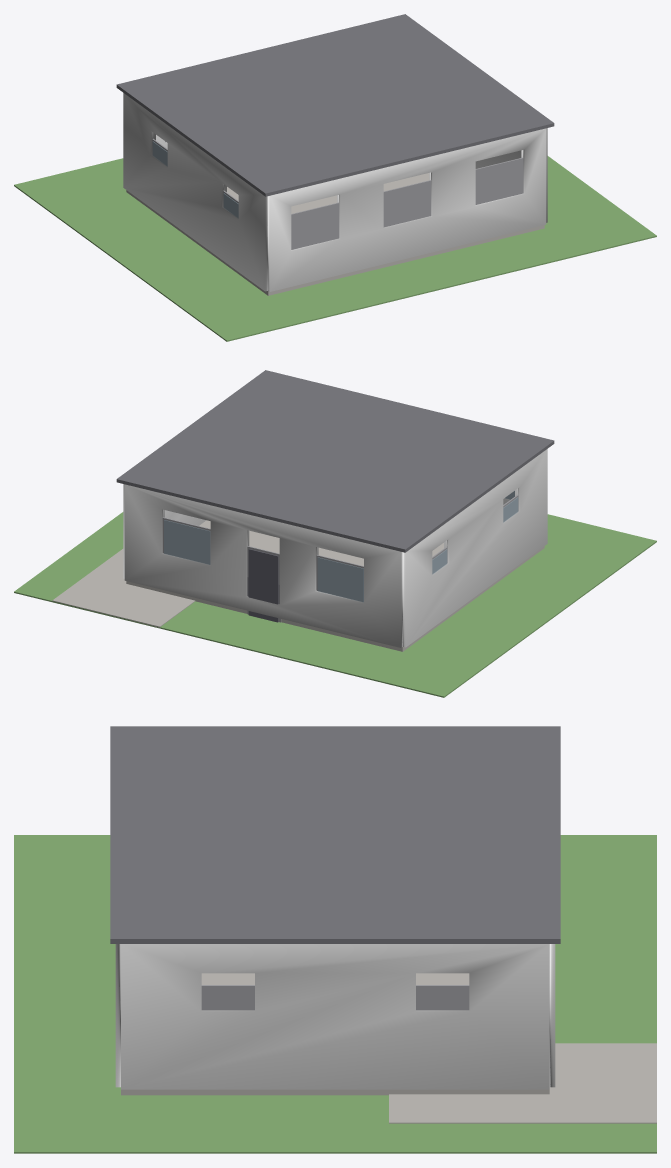
File: house_modern.glb
3 views of the same model, one above another, from view 1: azimuth 30°, elevation 25°; view 2: azimuth 150°, elevation 25°; view 3: azimuth 270°, elevation 25° (orthographic). The views are drawn at different scales.
Visible parts, largest first — view 1: roof, lawn, back_wall, left_wall, frame (×3), foundation, floor, right_wall; view 2: roof, lawn, front_wall, left_wall, driveway, frame (×2), glass (×2), panel, foundation, floor, right_wall; view 3: roof, lawn, right_wall, driveway, foundation, frame (×2), floor, front_wall, back_wall.
Boxes of the visible parts, x1=… form: roof: x1=116, y1=14, x2=554, y2=196; lawn: x1=14, y1=156, x2=656, y2=341; back_wall: x1=268, y1=128, x2=546, y2=291; left_wall: x1=123, y1=93, x2=268, y2=291; frame (×3): x1=291, y1=157, x2=523, y2=249; foundation: x1=126, y1=190, x2=544, y2=295; floor: x1=227, y1=173, x2=429, y2=213; right_wall: x1=475, y1=128, x2=547, y2=222; roof: x1=116, y1=370, x2=554, y2=552; lawn: x1=14, y1=512, x2=656, y2=697; front_wall: x1=124, y1=484, x2=402, y2=647; left_wall: x1=402, y1=449, x2=547, y2=647; driveway: x1=52, y1=549, x2=195, y2=627; frame (×2): x1=162, y1=517, x2=363, y2=601; glass (×2): x1=164, y1=520, x2=363, y2=602; panel: x1=248, y1=549, x2=278, y2=622; foundation: x1=126, y1=546, x2=544, y2=651; floor: x1=199, y1=520, x2=443, y2=565; right_wall: x1=123, y1=484, x2=206, y2=578; roof: x1=110, y1=726, x2=560, y2=943; lawn: x1=14, y1=835, x2=656, y2=1153; right_wall: x1=121, y1=944, x2=549, y2=1089; driveway: x1=389, y1=1043, x2=656, y2=1123; foundation: x1=121, y1=1089, x2=549, y2=1095; frame (×2): x1=201, y1=985, x2=469, y2=1010; floor: x1=201, y1=973, x2=469, y2=984; front_wall: x1=549, y1=944, x2=555, y2=1087; back_wall: x1=115, y1=944, x2=120, y2=1087.
Size of the model in its own units: 14 by 3.4 by 12.
